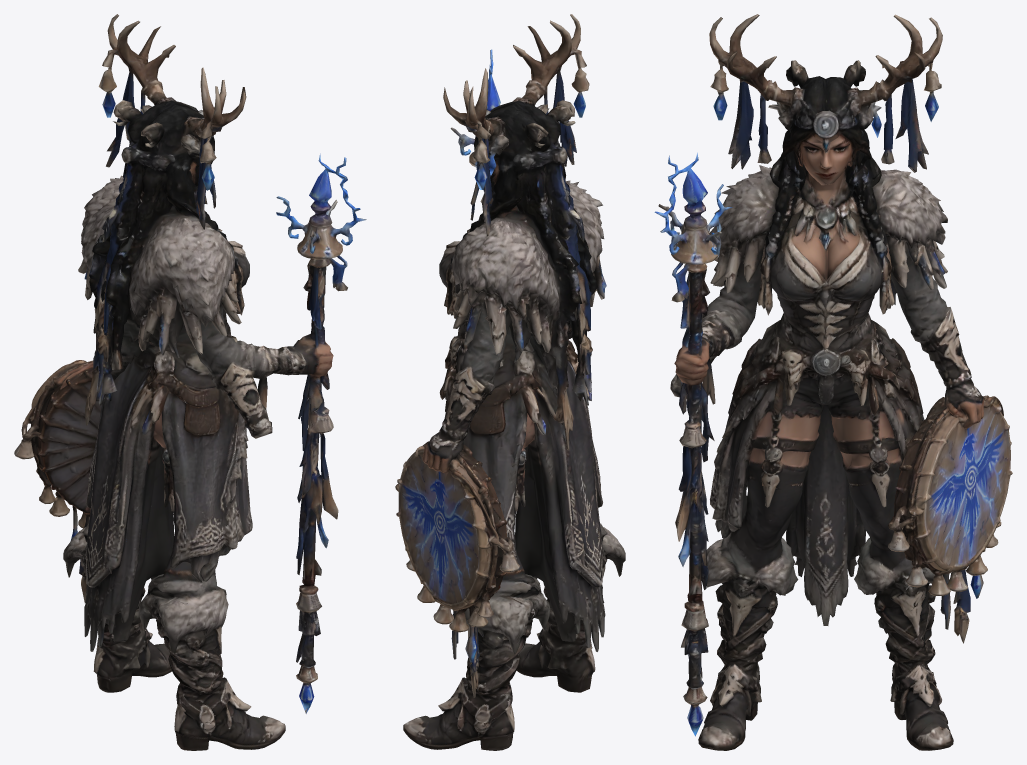
The model's file is drumcaller_T8-tripo.glb.
The picture shows the model from 3 angles, left to right: view 1: azimuth 30°, elevation 25°; view 2: azimuth 150°, elevation 25°; view 3: azimuth 270°, elevation 25°; orthographic projection. The views are drawn at different scales.
Parts seen in each view (by area): view 1: tripo_node_5125313d-d166-4ea7-ae01-ab1d9a3d62b3; view 2: tripo_node_5125313d-d166-4ea7-ae01-ab1d9a3d62b3; view 3: tripo_node_5125313d-d166-4ea7-ae01-ab1d9a3d62b3.
Part boxes in pixels (x1,y1,x2,y2): tripo_node_5125313d-d166-4ea7-ae01-ab1d9a3d62b3: (14, 14, 366, 750); tripo_node_5125313d-d166-4ea7-ae01-ab1d9a3d62b3: (395, 14, 625, 750); tripo_node_5125313d-d166-4ea7-ae01-ab1d9a3d62b3: (654, 14, 1012, 750).
Bounding box in the file's own units: 0.3156 × 1 × 0.4558.
1 material, 1 textured.
